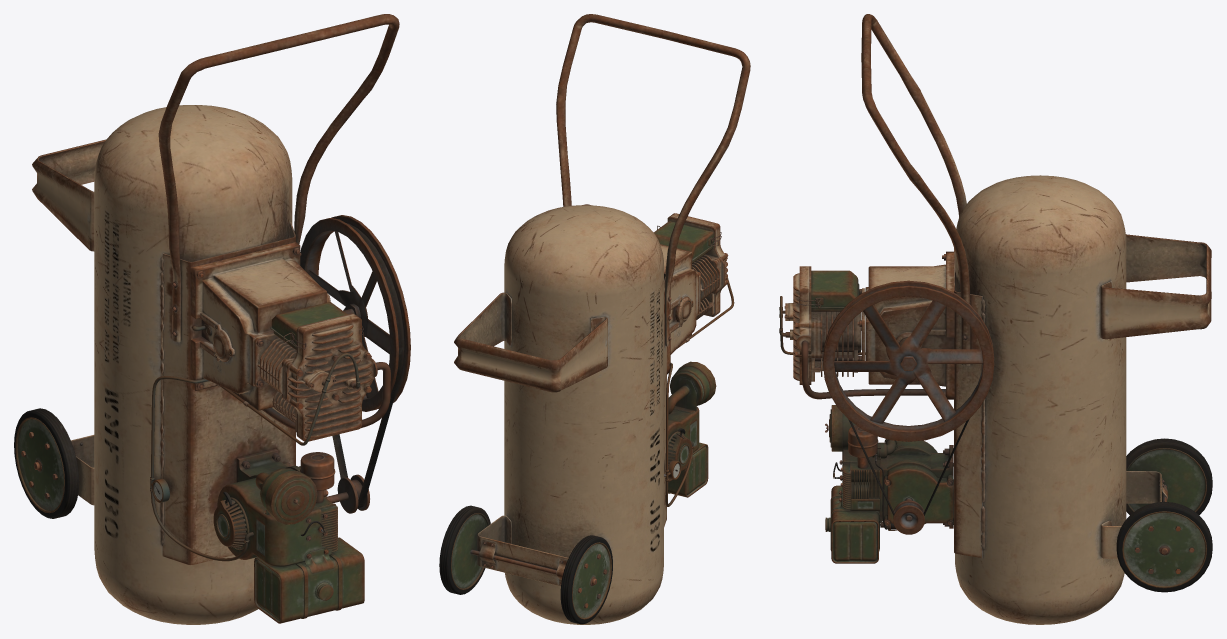
Rendered from old_military_compressor.glb.
The picture shows the model from 3 angles, left to right: view 1: azimuth 30°, elevation 25°; view 2: azimuth 150°, elevation 25°; view 3: azimuth 270°, elevation 25°; orthographic projection. The views are drawn at different scales.
Visible parts, largest first — view 1: old_military_compressor; view 2: old_military_compressor; view 3: old_military_compressor.
Boxes of the visible parts, left/top/right/bottom form: old_military_compressor: left=14, top=14, right=410, bottom=624; old_military_compressor: left=439, top=14, right=750, bottom=624; old_military_compressor: left=779, top=14, right=1212, bottom=624.
Bounding box in the file's own units: 0.5983 × 1.68 × 1.18.
2 materials, 2 textured.
